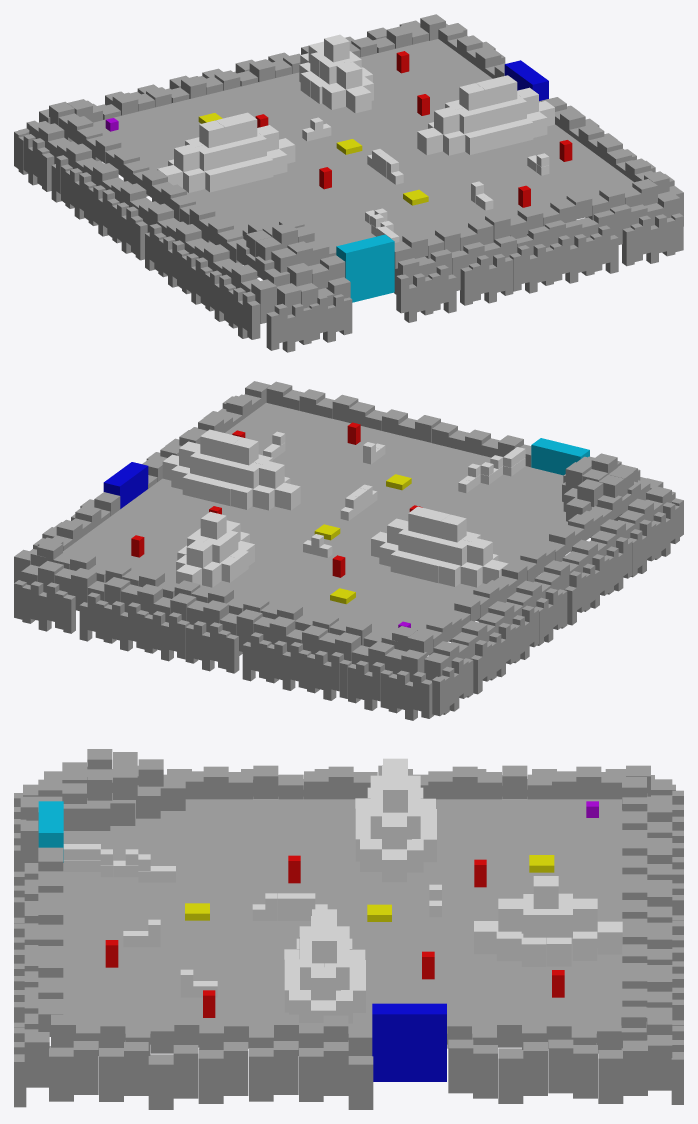
Rendered from level1_b3_45.fbx.
3 renders of one model, top to bottom at view 1: azimuth 30°, elevation 25°; view 2: azimuth 150°, elevation 25°; view 3: azimuth 270°, elevation 25°, orthographic. The views are drawn at different scales.
Parts seen in each view (by area): view 1: pCube1, pCube401, pCube402, pCube270, pCube151, pCube145, pCube442, pCube139, pCube441, pCube447, pCube144, pCube152 (+7 smaller); view 2: pCube1, pCube401, pCube402, pCube238, pCube144, pCube145, pCube441, pCube234, pCube442, pCube150, pCube447, pCube139 (+8 smaller); view 3: pCube1, pCube402, pCube252, pCube266, pCube250, pCube293, pCube268, pCube259, pCube254, pCube261, pCube267, pCube269 (+81 smaller).
Part boxes in pixels (box(x1,y1,x2,y2)): pCube1: box(93, 39, 633, 251); pCube401: box(336, 234, 394, 302); pCube402: box(504, 60, 548, 100); pCube270: box(251, 279, 276, 323); pCube151: box(336, 62, 362, 89); pCube145: box(324, 34, 349, 62); pCube442: box(459, 83, 484, 110); pCube139: box(174, 144, 199, 171); pCube441: box(417, 127, 442, 155); pCube447: box(434, 107, 459, 134); pCube144: box(199, 120, 224, 147); pCube152: box(346, 86, 371, 113); pCube1: box(63, 402, 596, 634); pCube401: box(531, 438, 589, 475); pCube402: box(103, 462, 148, 508); pCube238: box(71, 568, 96, 610); pCube144: box(440, 514, 466, 542); pCube145: box(200, 511, 226, 539); pCube441: box(274, 482, 300, 510); pCube234: box(236, 609, 262, 651); pCube442: box(232, 437, 258, 465); pCube150: box(186, 540, 212, 568); pCube447: box(259, 461, 284, 488); pCube139: box(467, 538, 492, 565); pCube1: box(63, 797, 622, 1044); pCube402: box(372, 1003, 446, 1081); pCube252: box(498, 1048, 523, 1103); pCube266: box(148, 1054, 173, 1109); pCube250: box(448, 1038, 473, 1093); pCube293: box(24, 1032, 49, 1087); pCube268: box(198, 1048, 223, 1103); pCube259: box(323, 1040, 348, 1095); pCube254: box(348, 1056, 373, 1109); pCube261: box(273, 1041, 298, 1094); pCube267: box(173, 1045, 198, 1098); pCube269: box(223, 1042, 248, 1095).
Size of the model in its own units: 53.29 by 12.32 by 53.78.
